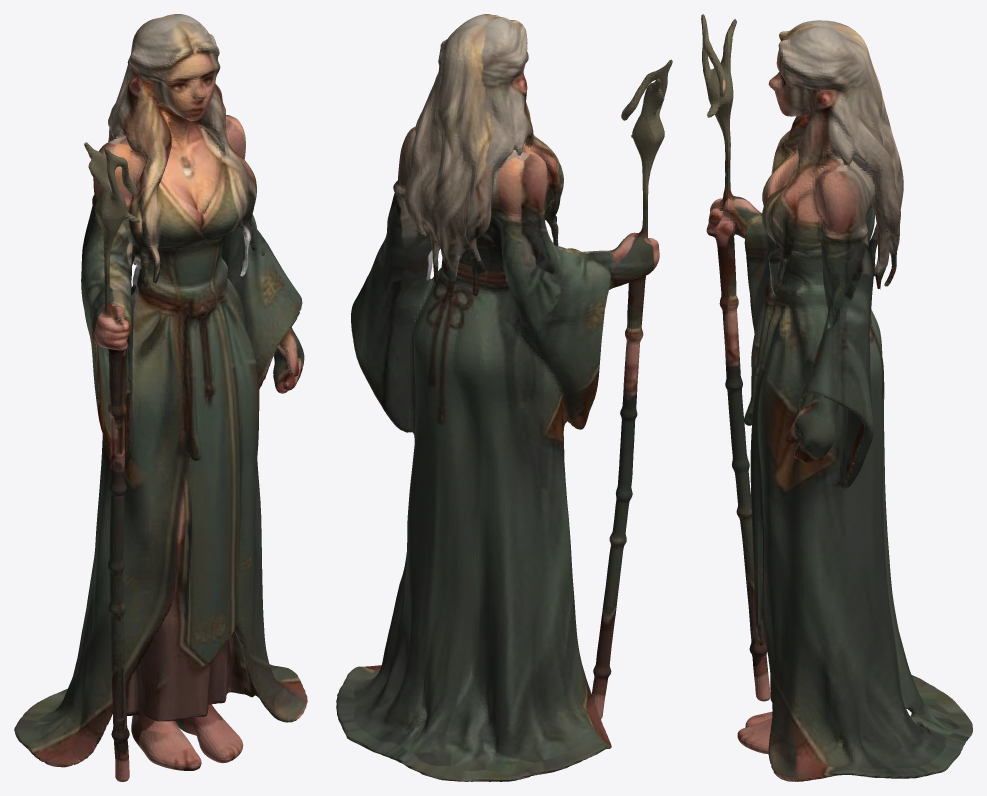
The model's file is maga2.glb.
The picture shows the model from 3 angles, left to right: view 1: azimuth 30°, elevation 25°; view 2: azimuth 150°, elevation 25°; view 3: azimuth 270°, elevation 25°; orthographic projection. The views are drawn at different scales.
Visible parts, largest first — view 1: world; view 2: world; view 3: world.
Boxes of the visible parts, <box> form: world: <box>14,14,307,781</box>; world: <box>336,14,672,781</box>; world: <box>701,14,972,781</box>.
Bounding box in the file's own units: 0.766 × 2 × 0.6859.
Materials: 1 (1 with a texture image).
